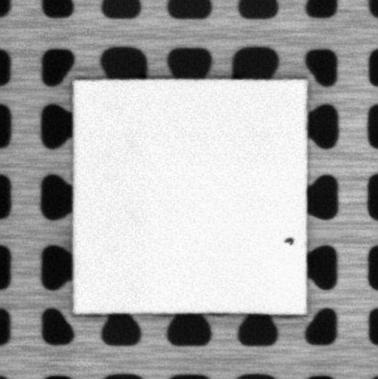DIE_INK: (283, 235, 295, 247)
